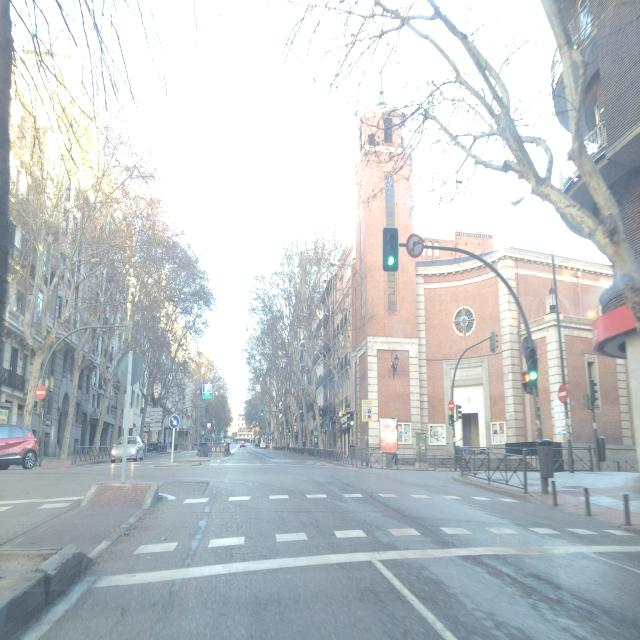car: (0, 423, 40, 473), (110, 436, 145, 462), (239, 439, 246, 448)
